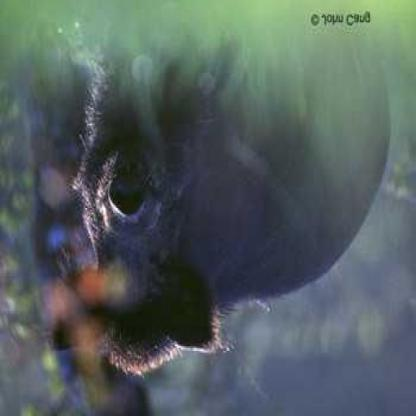boar: (42, 1, 415, 403)
